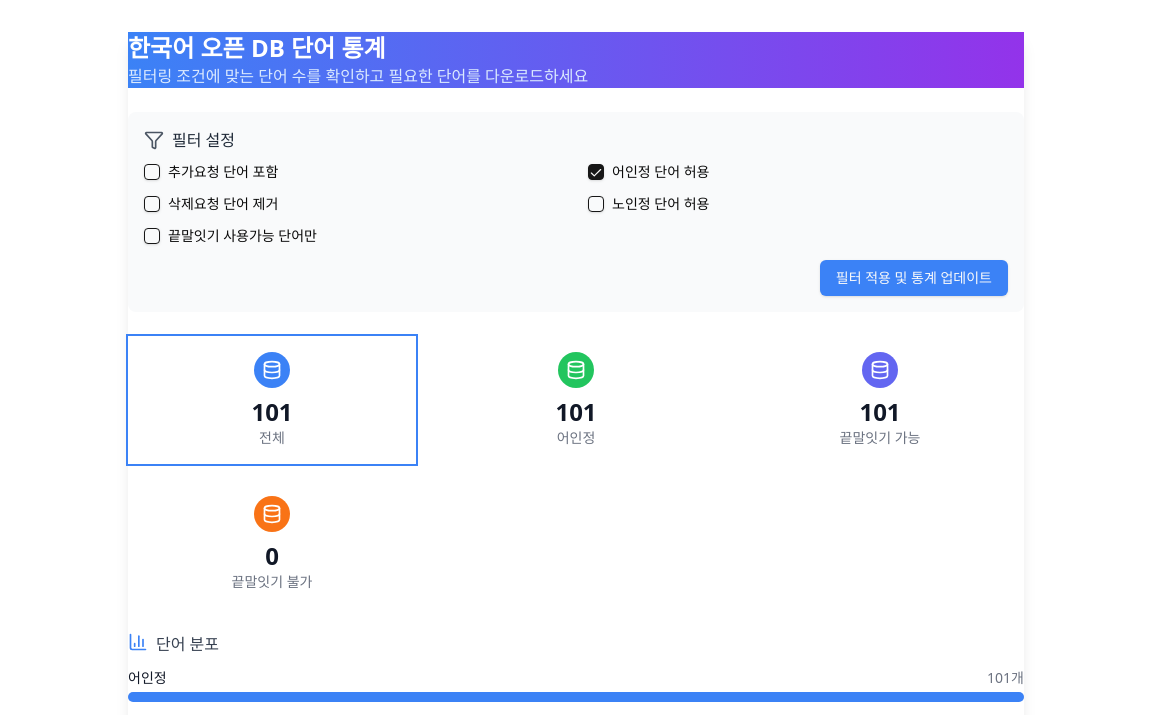
Test case: WordsDownloadHome › renders the pending-addition projection when 추가요청 단어 포함 changes
This screenshot has width=1152, height=715.
Click the checkbox named "추가요청 단어 포함" next to "추가요청 단어 포함": (152, 172) [144,164,160,180]
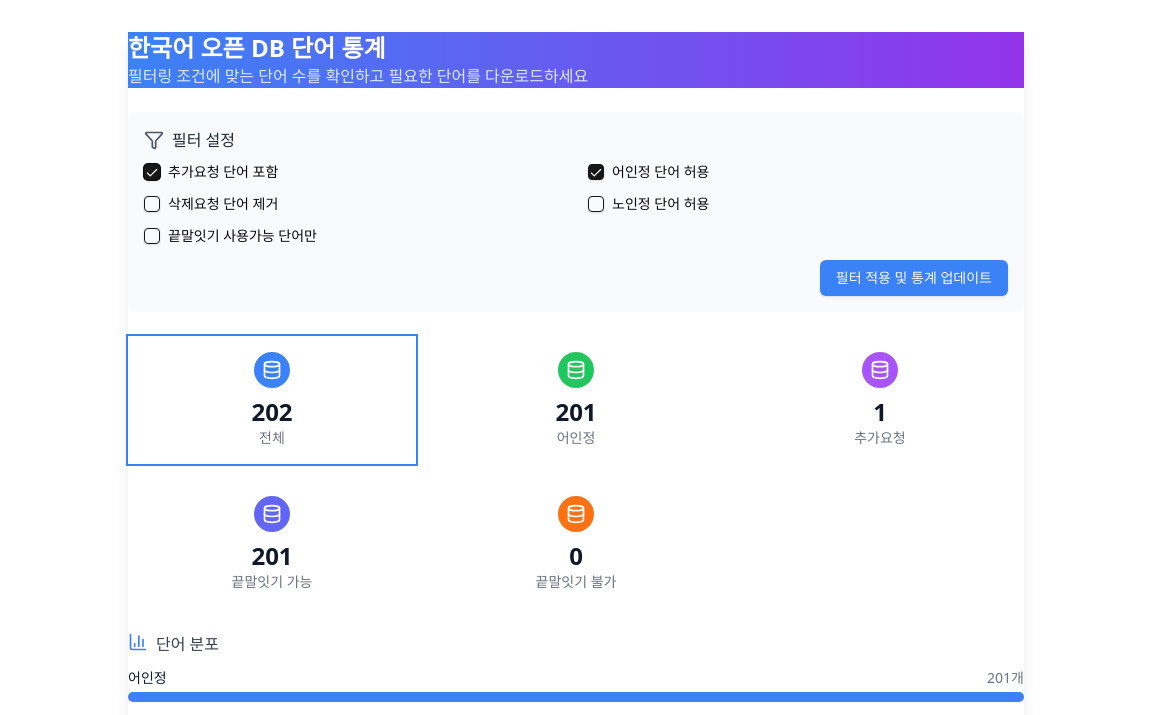
Expected: the text "202" is shown, [251,396,293,428]
Expected: the text "101" is gone
